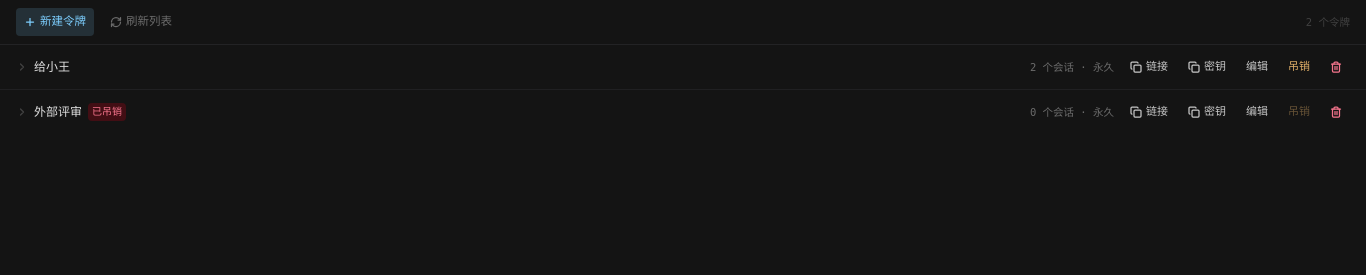
Test: GuestTokensPanel › 列表渲染：标签、会话数、到期、吊销标记；stale 会话标灰并提示
Expected: the text "给小王" is shown, [34,58,70,76]
Expected: the text "外部评审" is shown, [34,103,82,121]
Note: 展开会话表：stale 行带「已失效」
Click the button "给小王": (52,67) [16,58,1022,76]
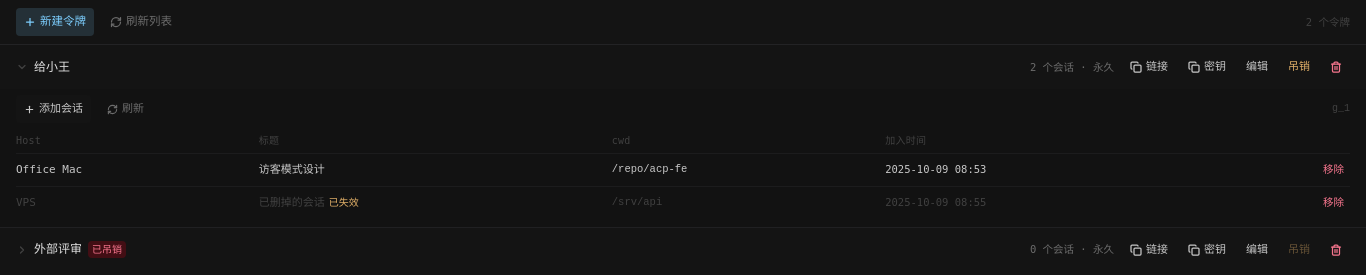
Expected: the text "已失效" is shown, [329,197,359,208]
Expected: the text "访客模式设计" is shown, [259,153,612,186]
Expected: the text "/srv/api" is shown, [612,186,885,218]
